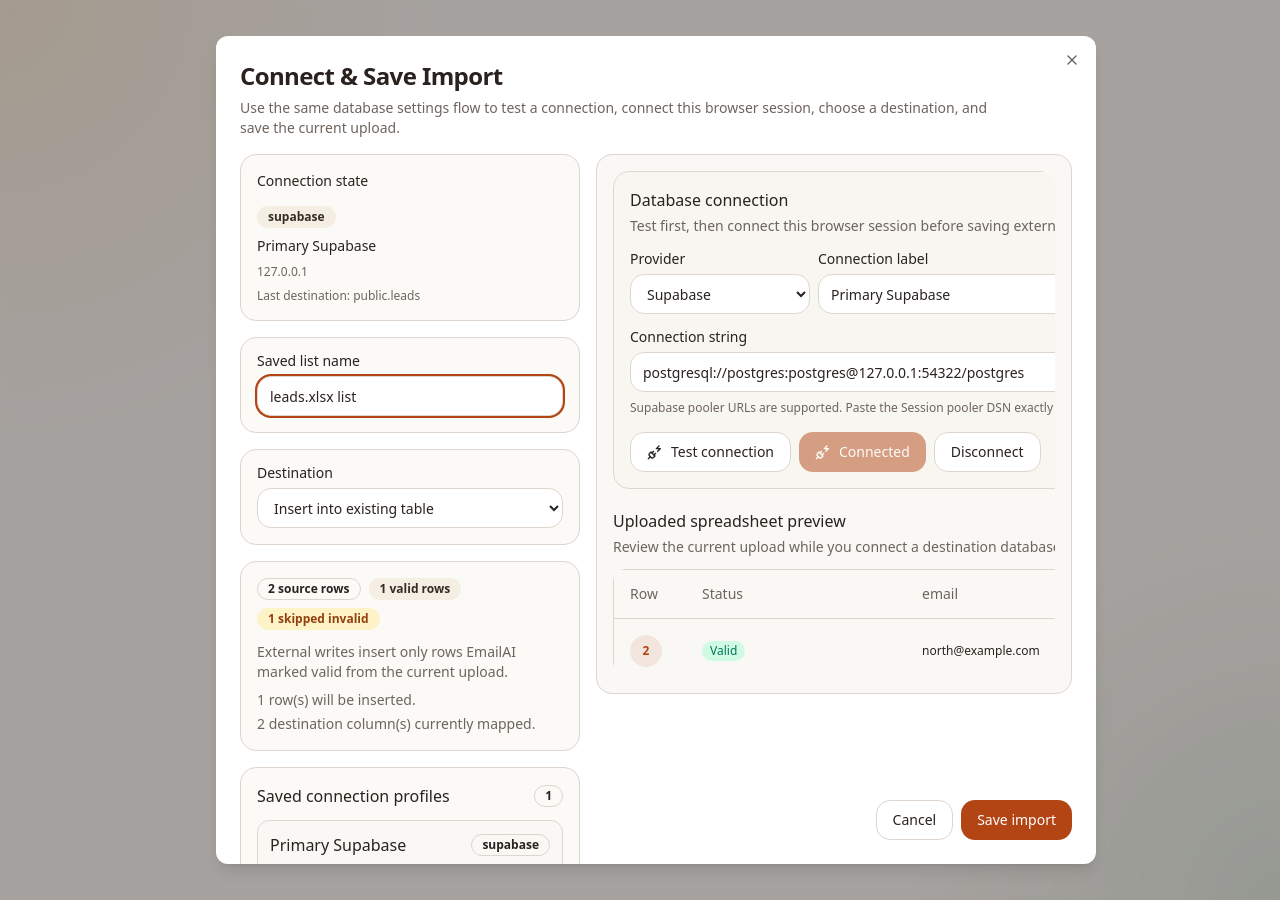
Test: DatabaseSettingsDialog › saves the import from the import flow and passes the response back
Click the button "Save import": click(1017, 820) [961, 800, 1072, 840]
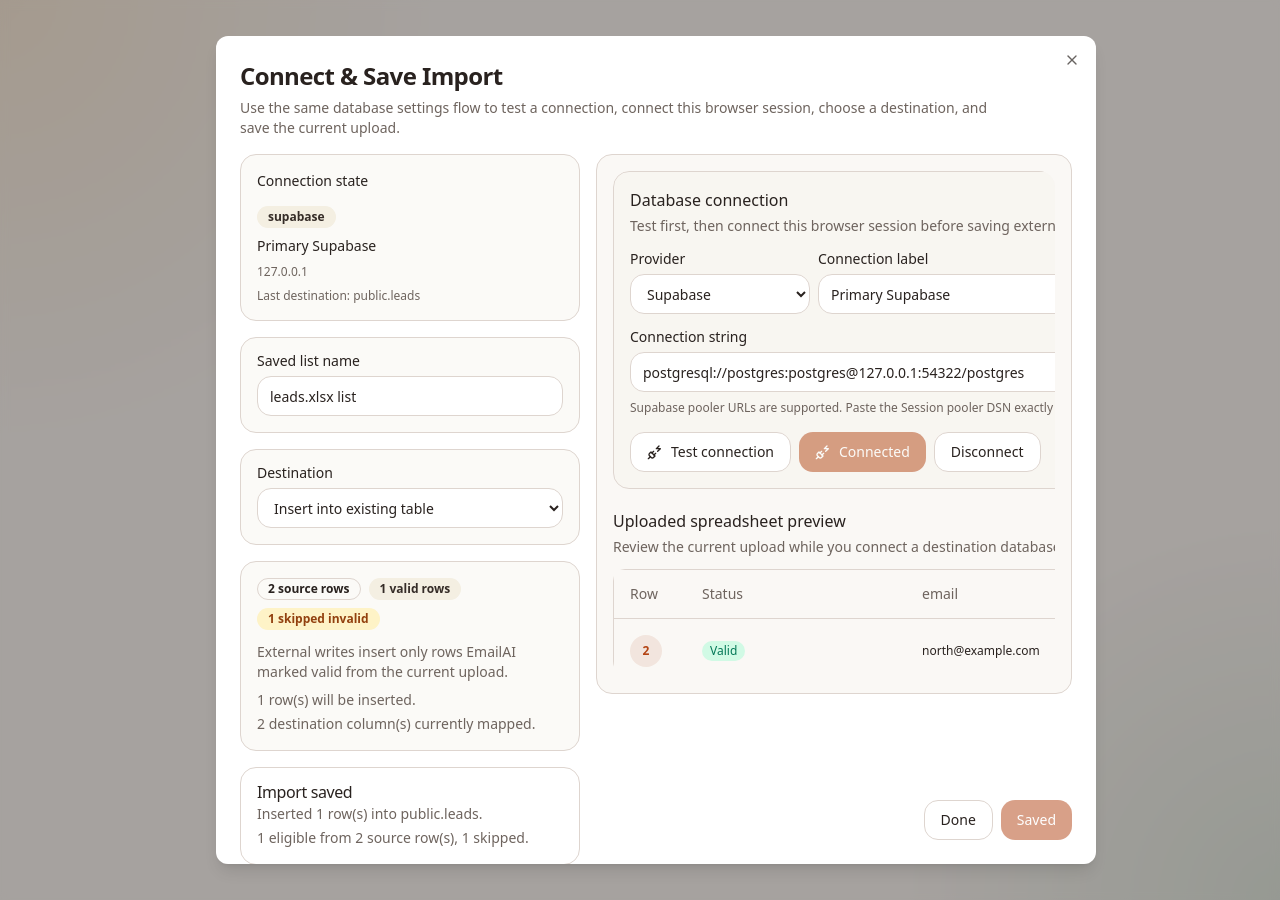
Check: the text "Inserted 1 row(s) into public.leads." is shown, box [257, 804, 482, 823]
Check: the button "Done" is shown, box [924, 800, 993, 840]
